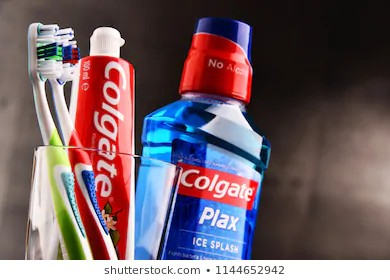colgate-Plax: (133, 19, 275, 260)
toothbrush: (45, 24, 92, 164), (26, 17, 63, 147)
